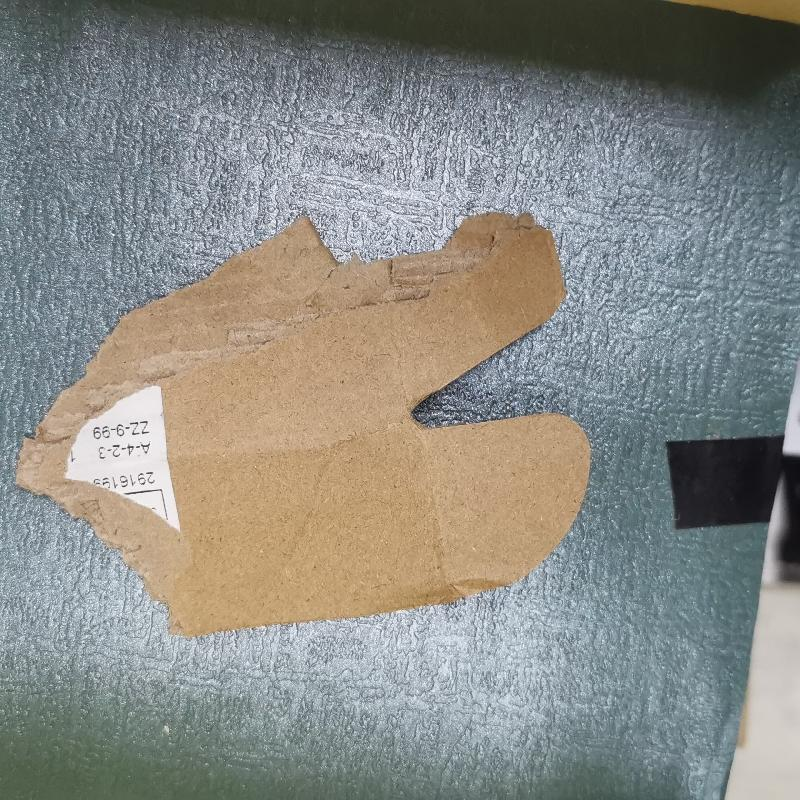boxes: (32, 214, 613, 619)
